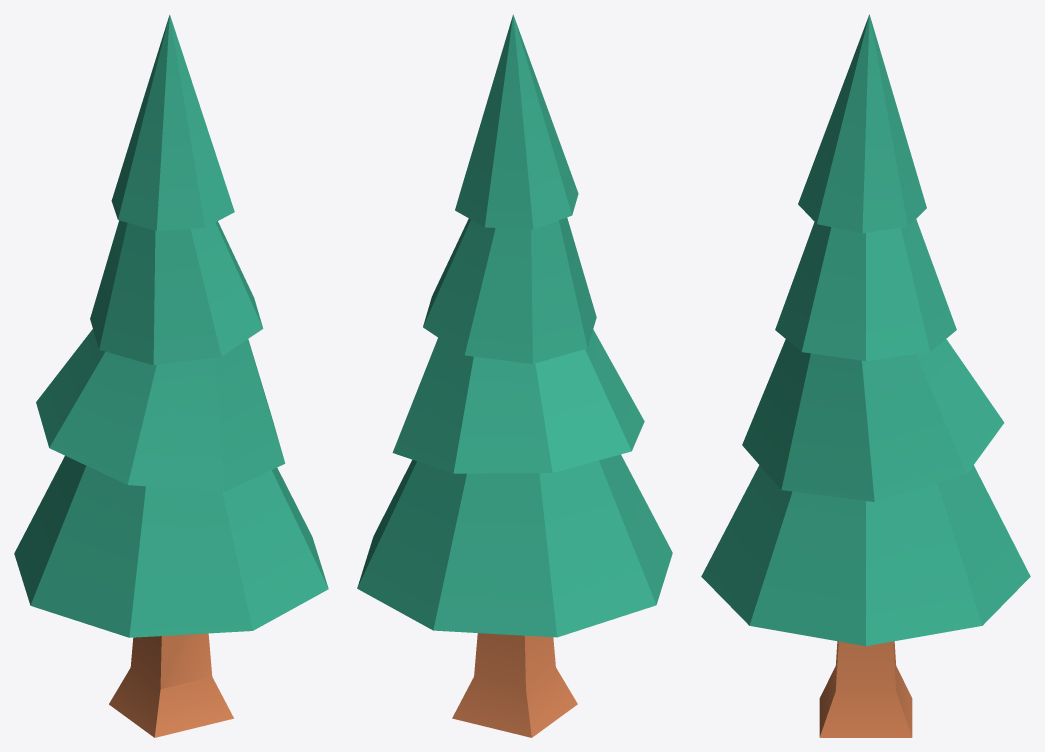
Rendered from treeCrooked_low.FBX.
3 renders of one model, left to right at view 1: azimuth 30°, elevation 25°; view 2: azimuth 150°, elevation 25°; view 3: azimuth 270°, elevation 25°, orthographic.
Visible parts, largest first — view 1: treeCrooked; view 2: treeCrooked; view 3: treeCrooked.
Part boxes in pixels (x1,y1,x2,y2): treeCrooked: (14,14,328,737); treeCrooked: (357,14,672,737); treeCrooked: (701,14,1030,737).
Size of the model in its own units: 102 by 241 by 102.
